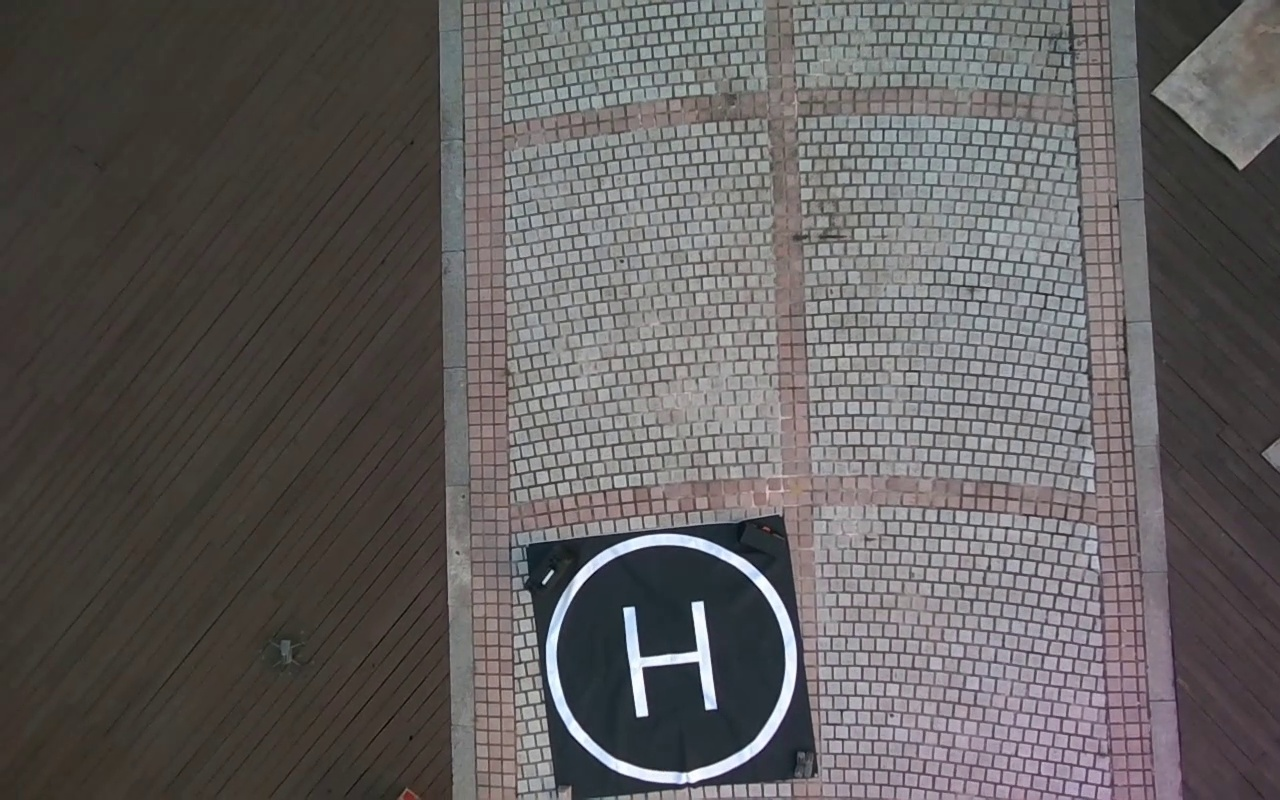H: (621, 601, 719, 720)
heliport: (538, 532, 801, 781)
